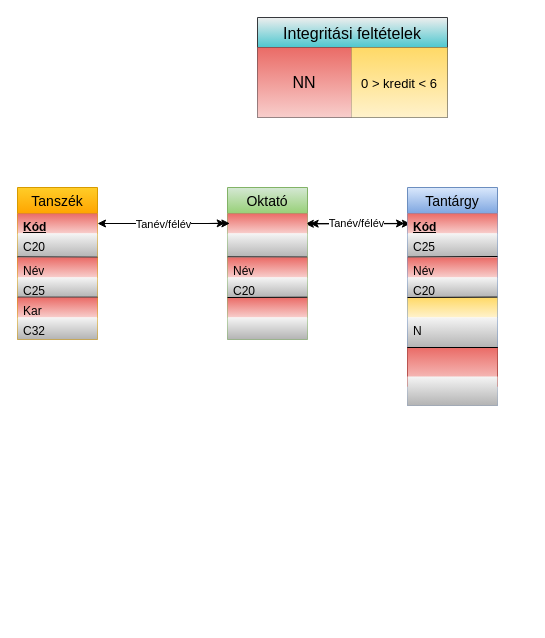
The diagram is 545 pixels wide and 638 high, and some of its shapes have lost their labels. Each missing label, with the centre of its shape:
"Beosztás" belongs at point 267,307.
"C12" belongs at point 452,390.
"C15" belongs at point 267,328.
"C6" belongs at point 267,245.
"Kredit" belongs at point 452,307.
"Lezárás módja" belongs at point 452,366.
"Neptunkód" belongs at point 267,223.
